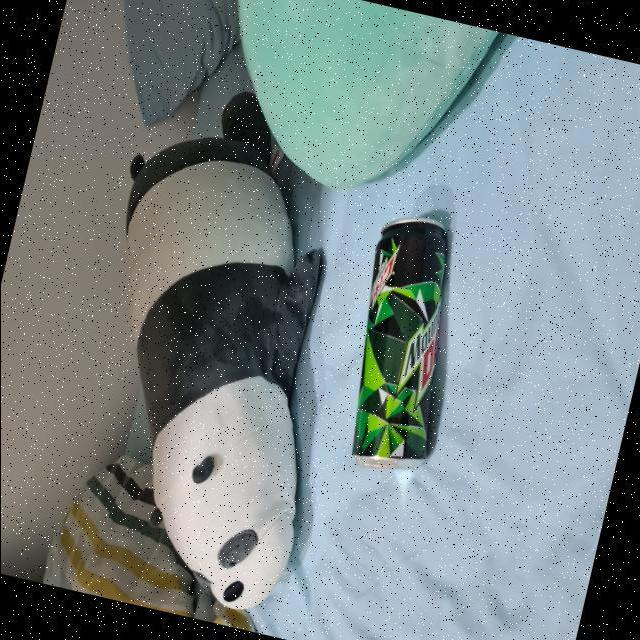can: (326, 208, 485, 478)
